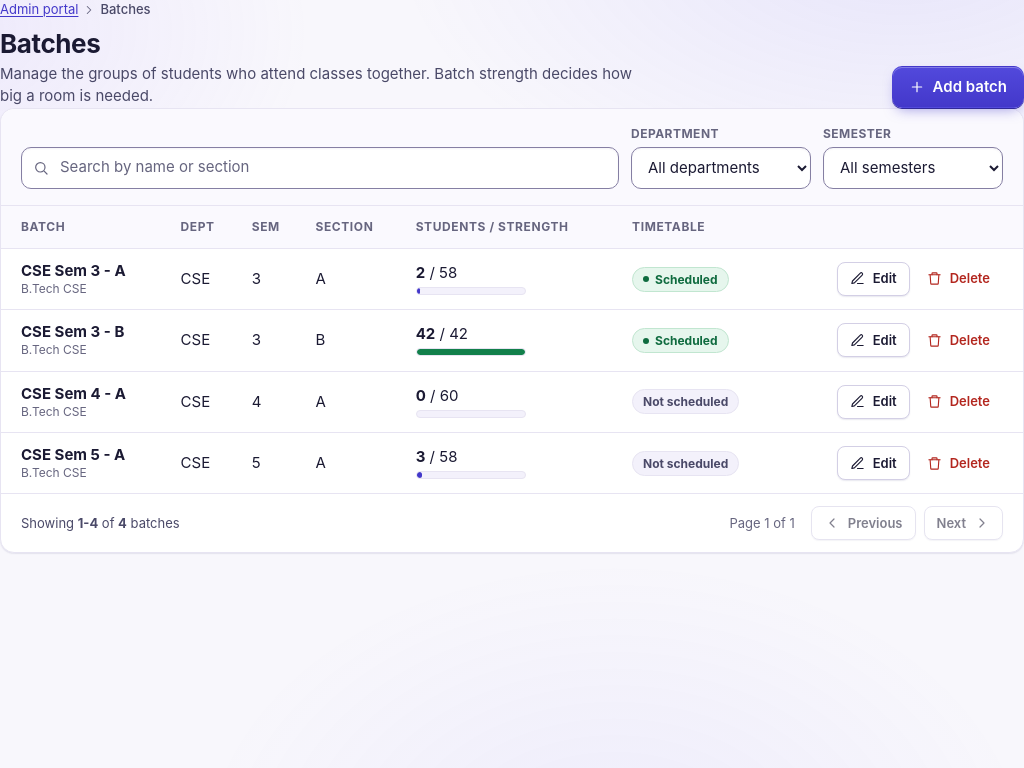
Batches screen - edit and strength accuracy › will not accept a strength below the students already in the batch (checked before sending)
Click the button with aria-label "Edit CSE Sem 5 - A". click: click(873, 463)
box: top-left (837, 446), bottom-right (910, 480)
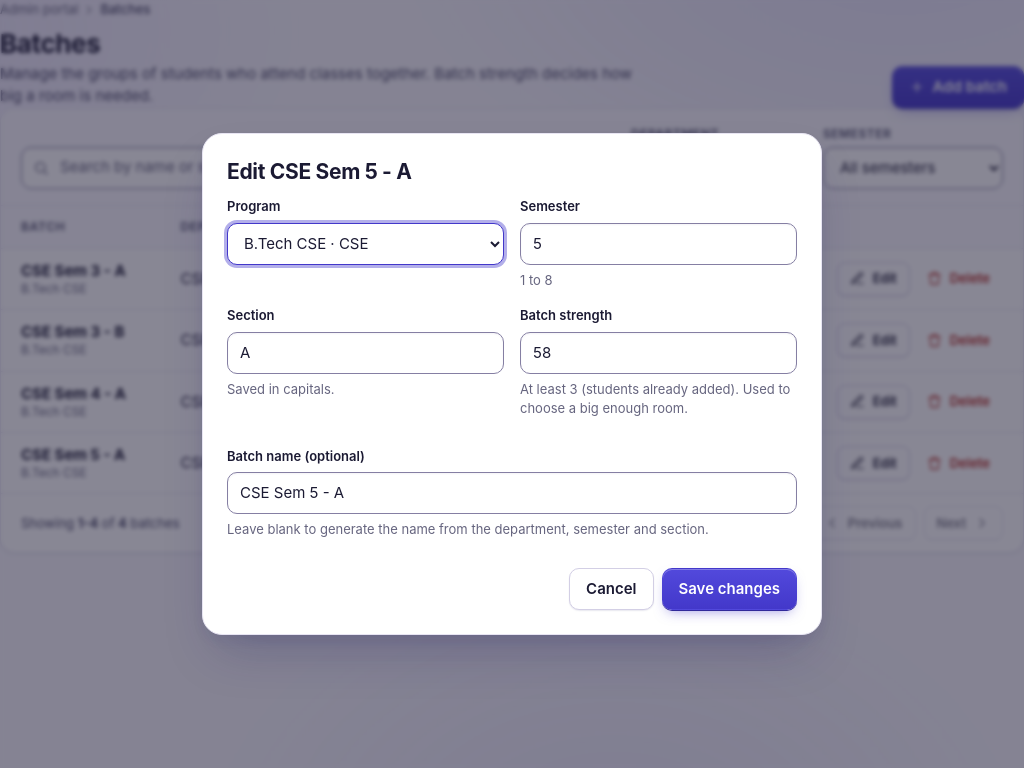
Result: the text "At least 3" is shown at top-left (520, 381), bottom-right (790, 416)
Replace the text in the number field labelled "Batch strength" with "2". click: (658, 353)
box: top-left (520, 332), bottom-right (797, 374)
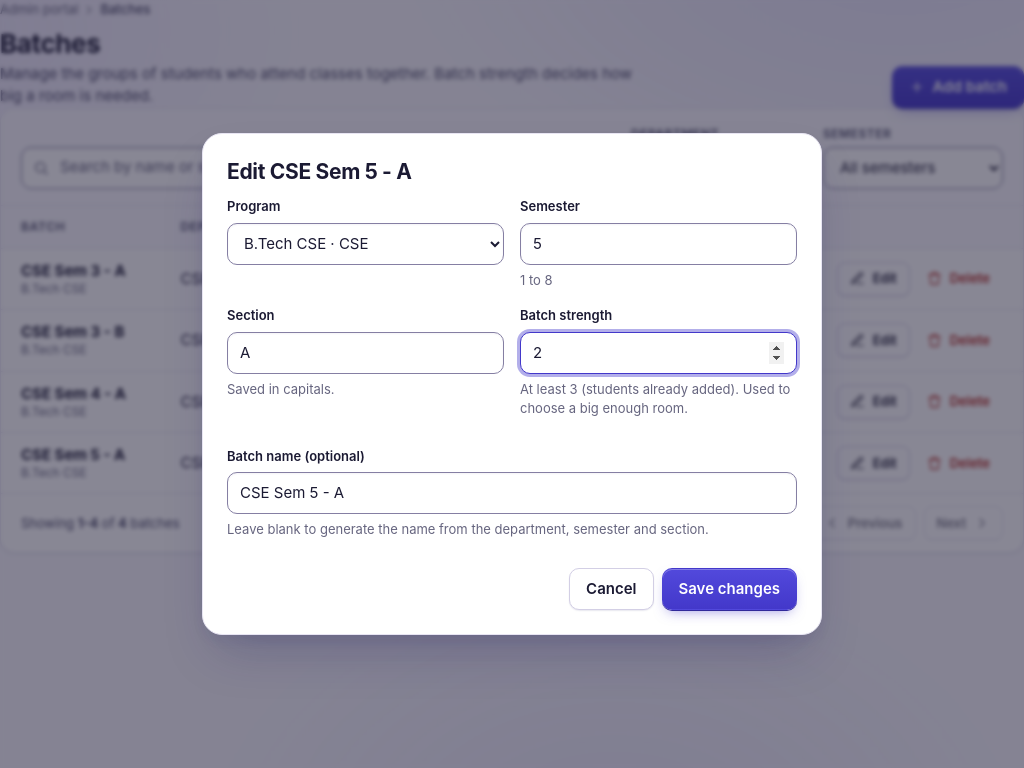
Click the button "Save changes". click: click(729, 589)
box: top-left (662, 568), bottom-right (797, 610)
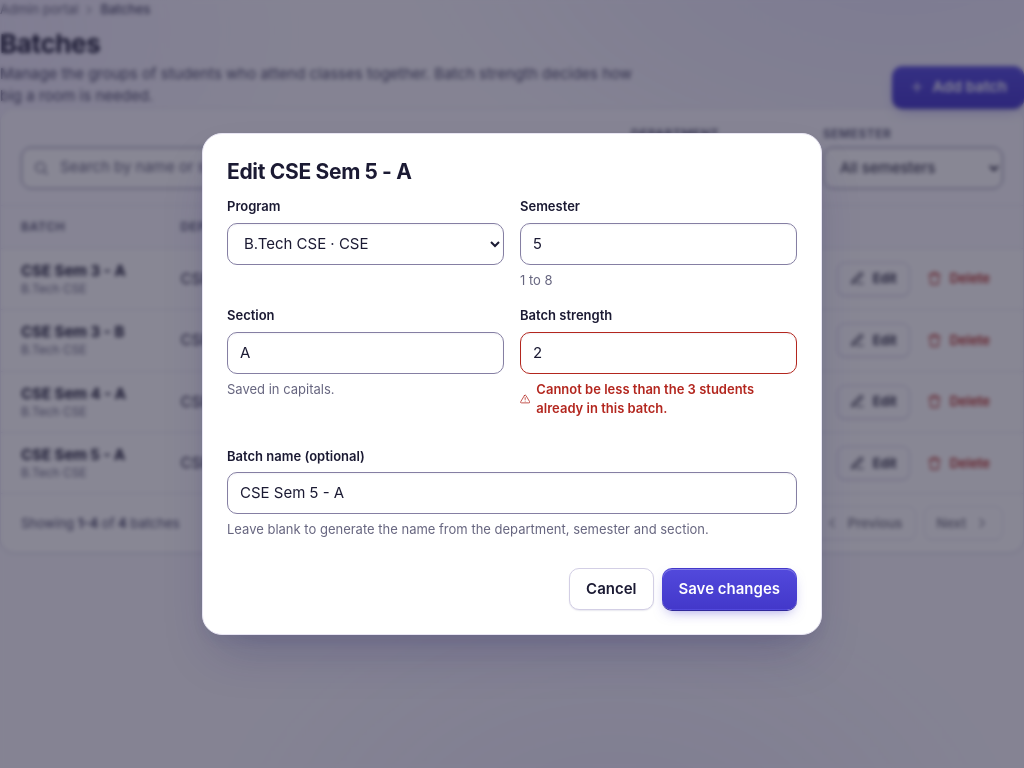
Result: the text "Cannot be less than the 3 students already in this batch." is shown at top-left (520, 381), bottom-right (754, 416)
